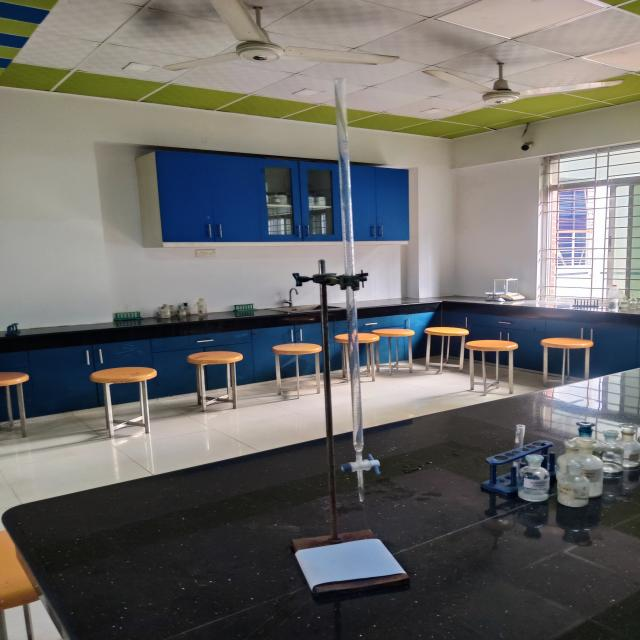Burette_Stands: (247, 246, 444, 621)
